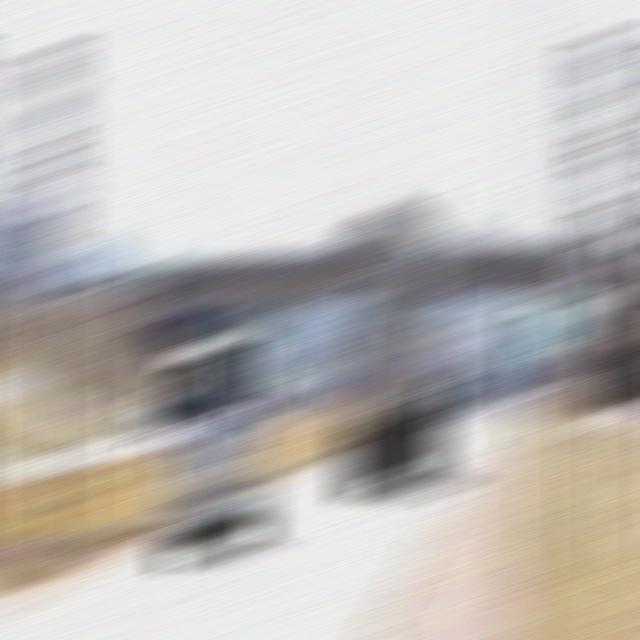speedLimit65: (18, 48, 82, 195), (566, 36, 628, 176)
